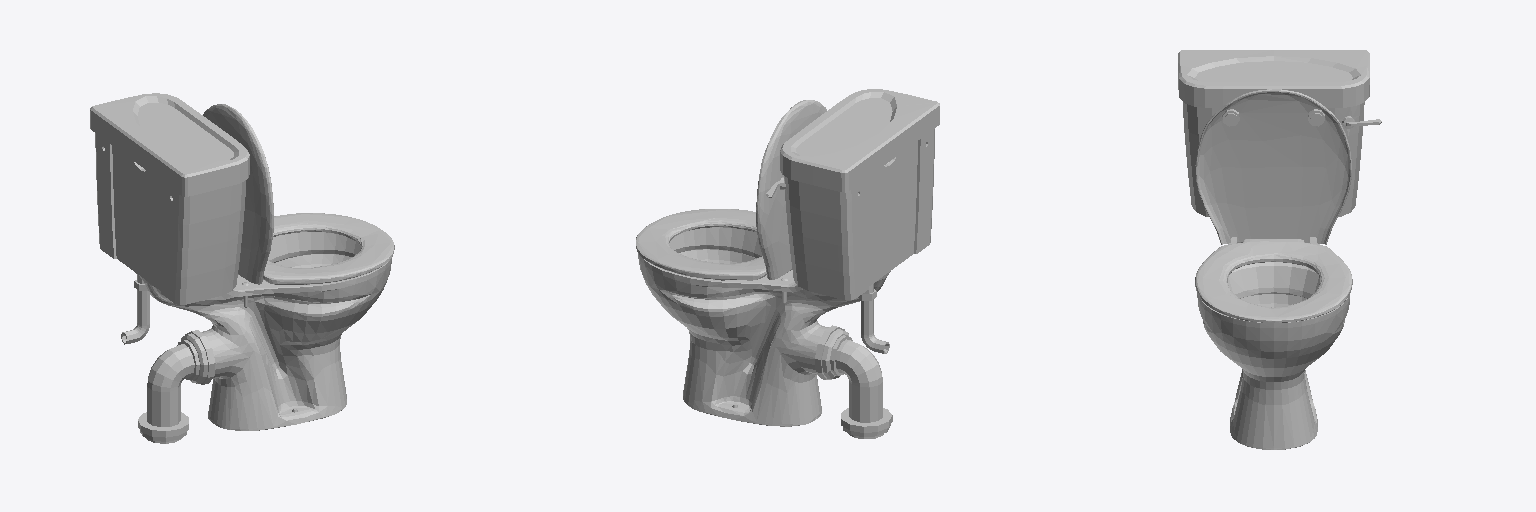
File: sanitario.obj
3 renders of one model, left to right at view 1: azimuth 30°, elevation 25°; view 2: azimuth 150°, elevation 25°; view 3: azimuth 270°, elevation 25°, orthographic.
Parts seen in each view (by area): view 1: pan, Cube.085, Cube.084, Cube.079, Cube.080, Cube.081, Cylinder.011; view 2: pan, Cube.085, Cube.084, Cube.080, Cube.079, Cube.081, Cylinder.011; view 3: Cube.081, pan, Cube.084, Cube.079, Cube.085.
Part boxes in pixels (x1,y1,x2,y2): pan: (139, 232, 391, 430); Cube.085: (95, 133, 245, 304); Cube.084: (90, 93, 249, 196); Cube.079: (263, 213, 394, 284); Cube.080: (138, 330, 215, 443); Cube.081: (203, 104, 273, 284); Cylinder.011: (121, 290, 149, 344); pan: (638, 227, 890, 426); Cube.085: (784, 129, 934, 299); Cube.084: (780, 89, 939, 192); Cube.080: (815, 325, 892, 438); Cube.079: (636, 209, 766, 280); Cube.081: (756, 100, 826, 279); Cylinder.011: (861, 299, 889, 353); Cube.081: (1195, 89, 1351, 244); pan: (1197, 243, 1349, 449); Cube.084: (1178, 50, 1369, 107); Cube.079: (1195, 239, 1352, 322); Cube.085: (1183, 102, 1364, 216).
Bounding box in the file's own units: 0.5699 × 0.6721 × 0.4027.